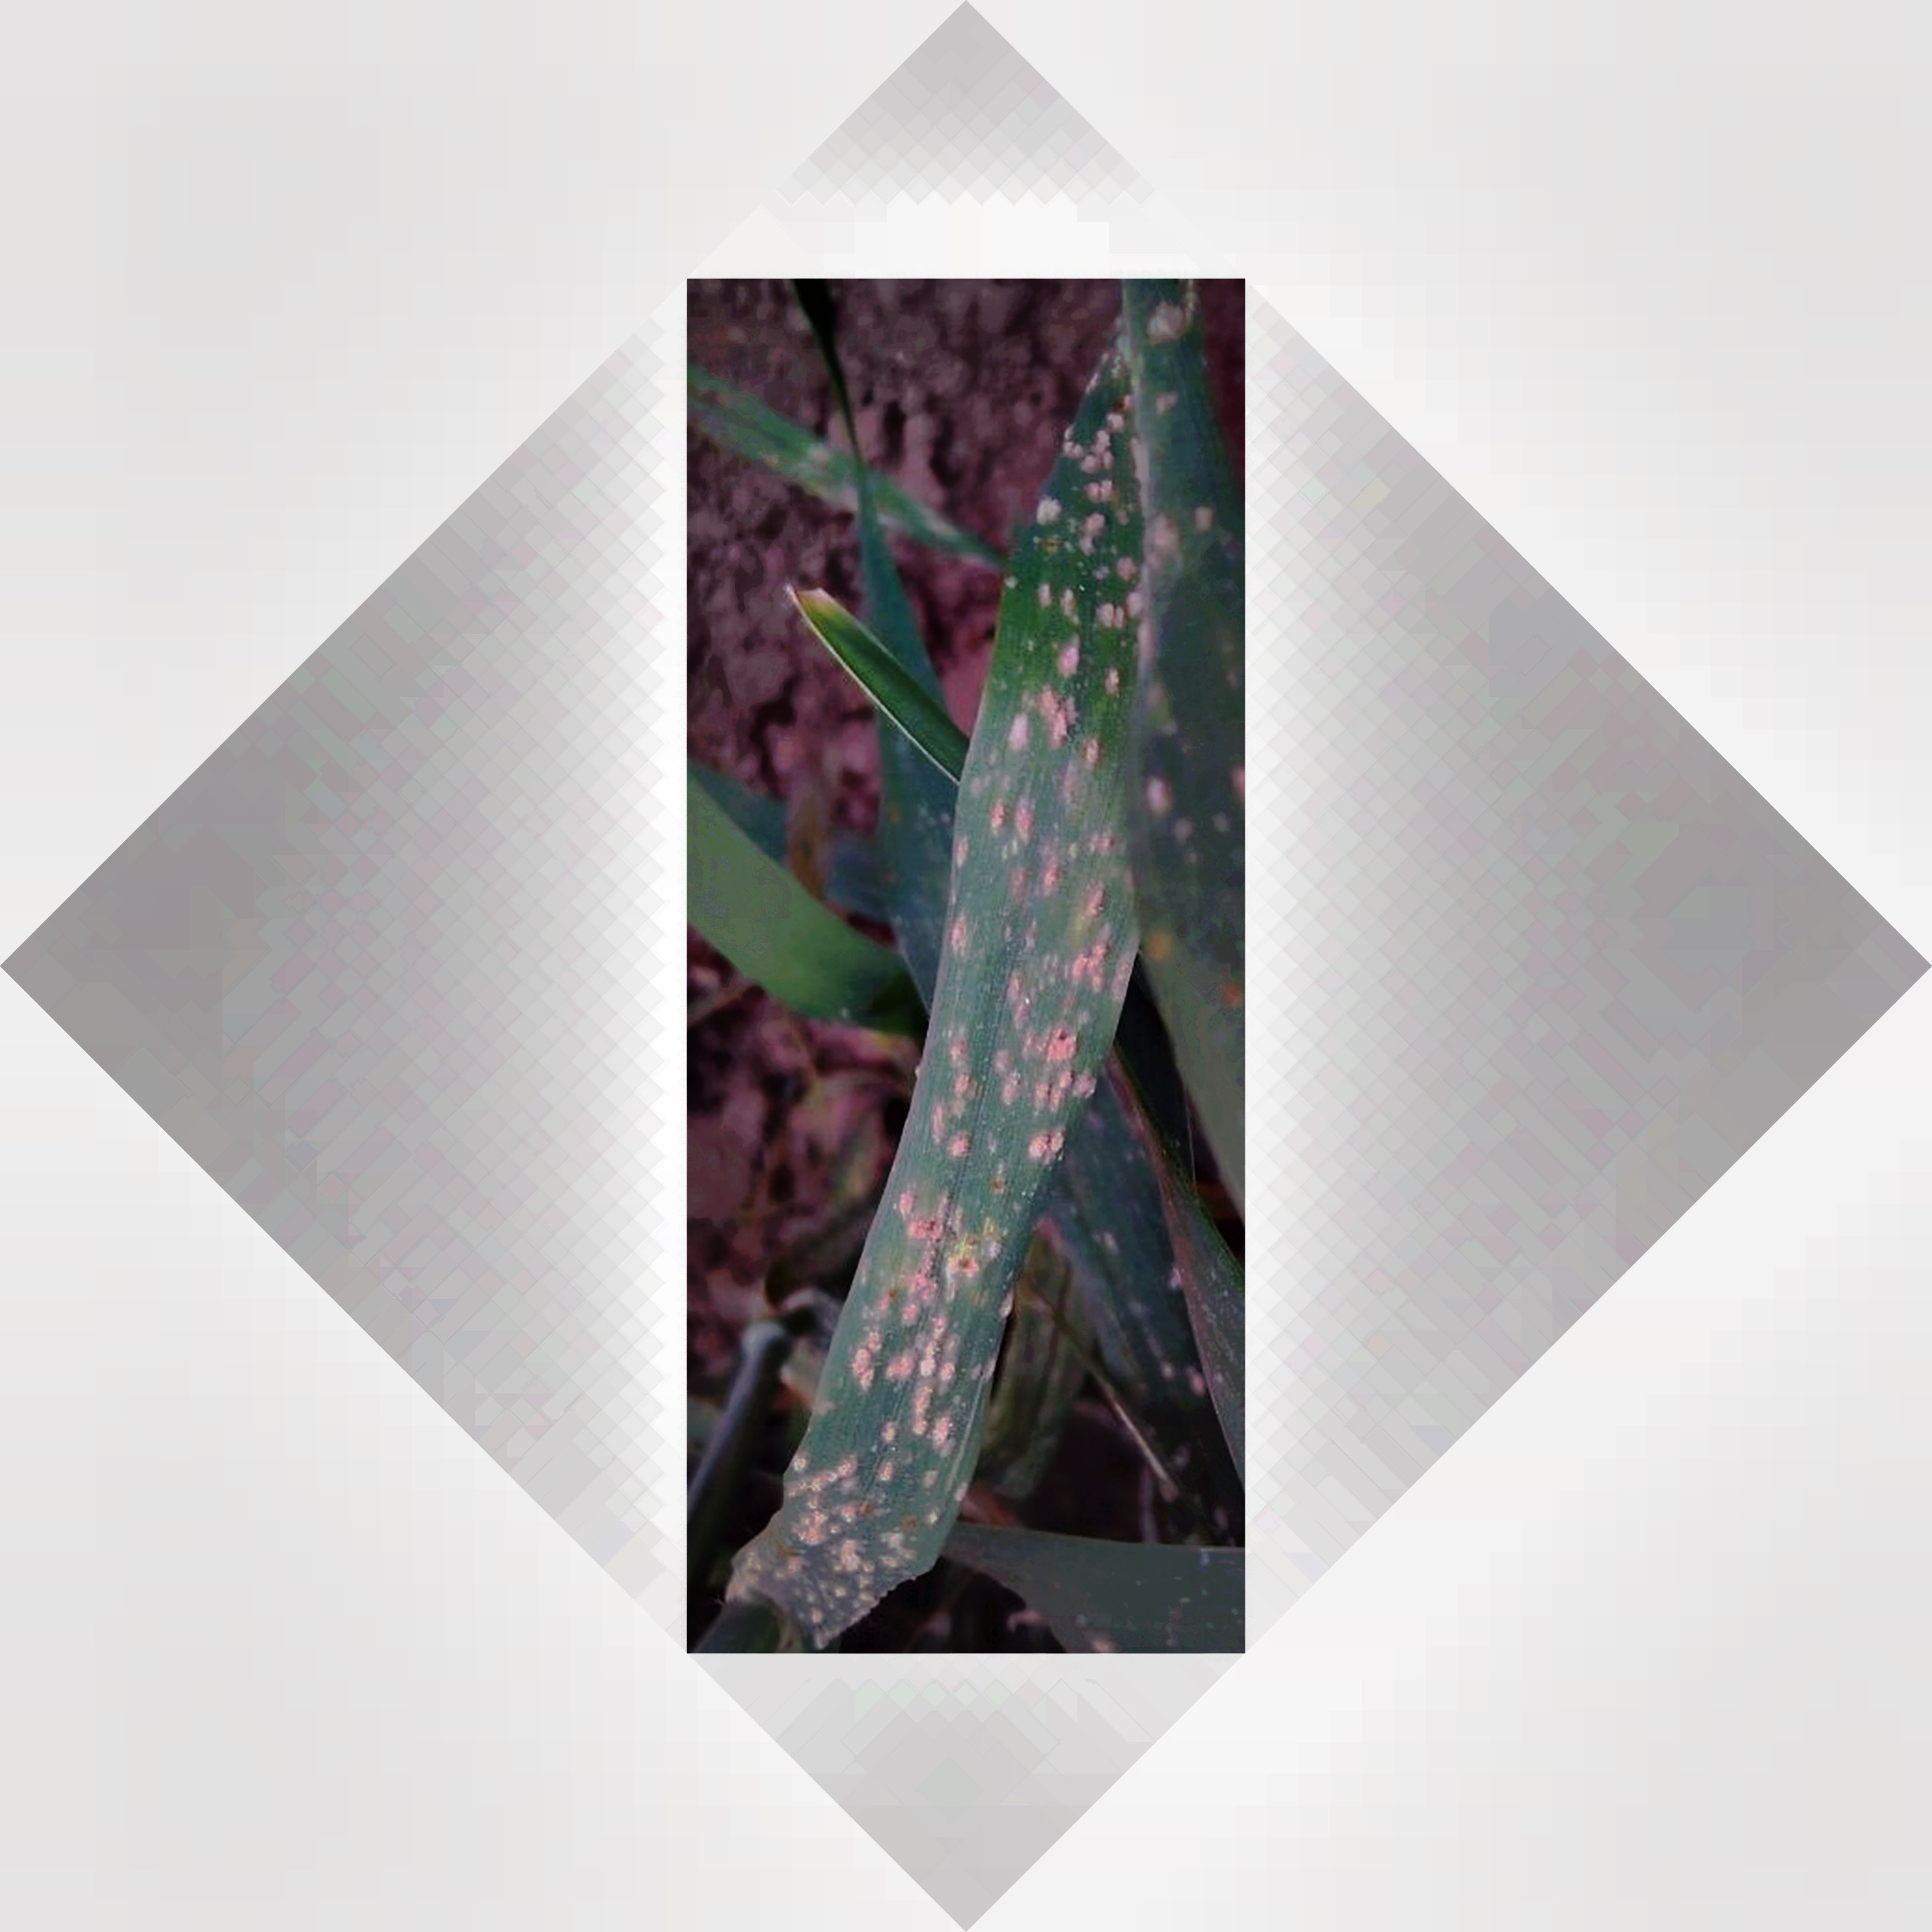Powdery Mildew: (826, 494, 1175, 1530)
